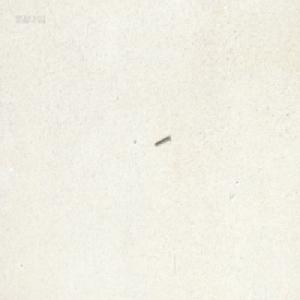Bolt: (153, 133, 170, 145)
